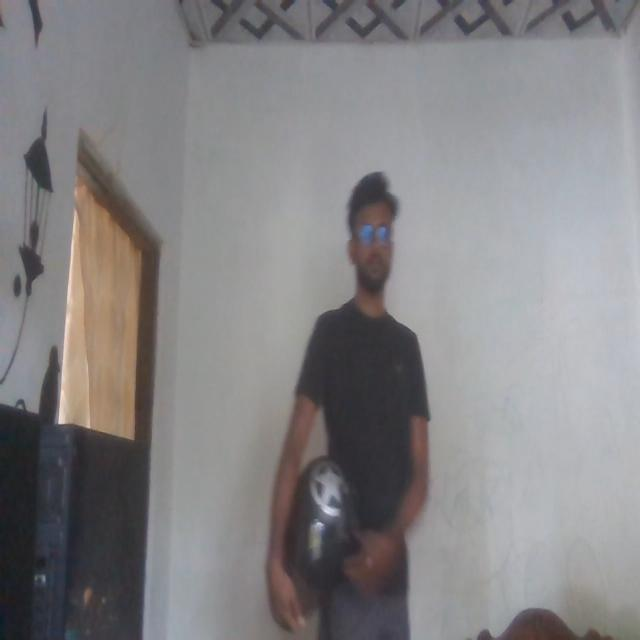Person: (262, 162, 439, 640)
